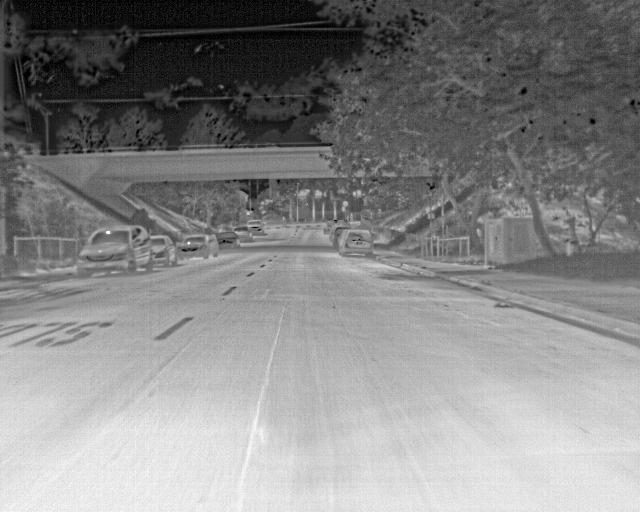car: (75, 225, 153, 280), (336, 228, 374, 258), (178, 233, 218, 261), (150, 233, 176, 270), (216, 230, 240, 252), (236, 227, 251, 242), (248, 219, 262, 233), (328, 228, 338, 246), (323, 220, 332, 235)
